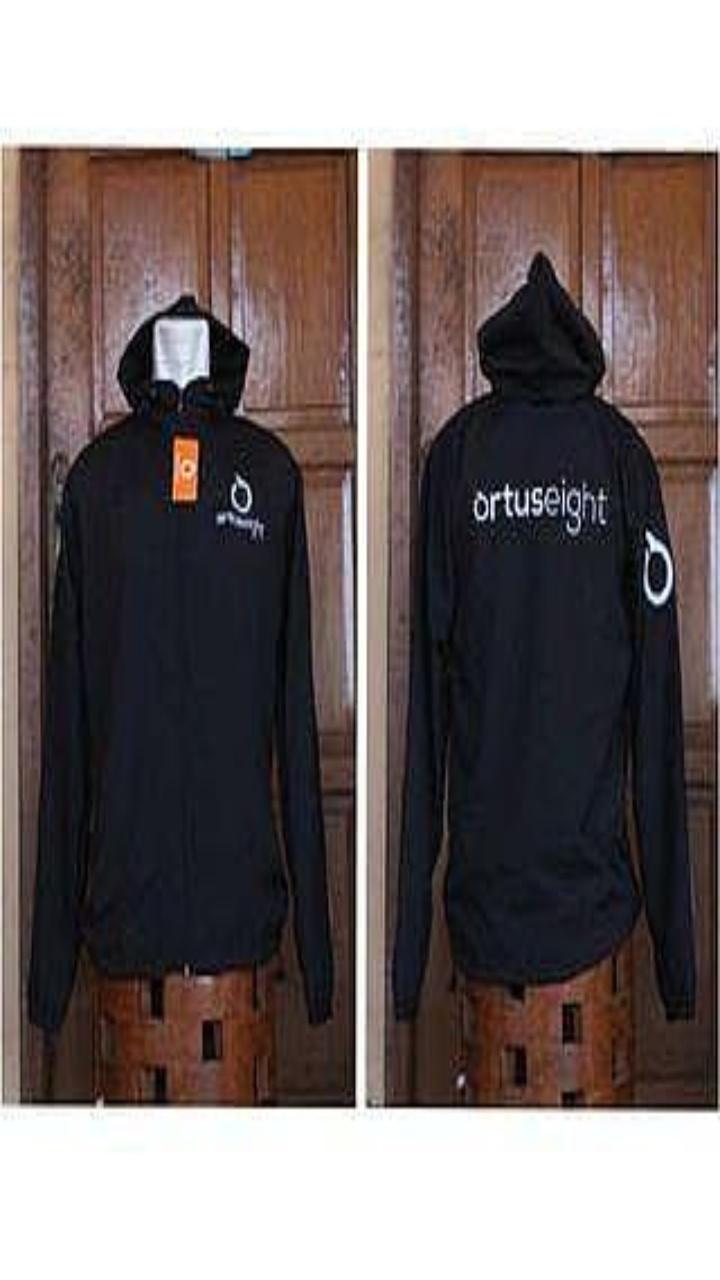Sports_Jacket: (393, 254, 695, 1018), (28, 296, 332, 1031)
